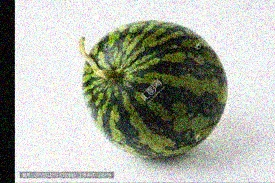watermelon: (75, 20, 226, 159)
